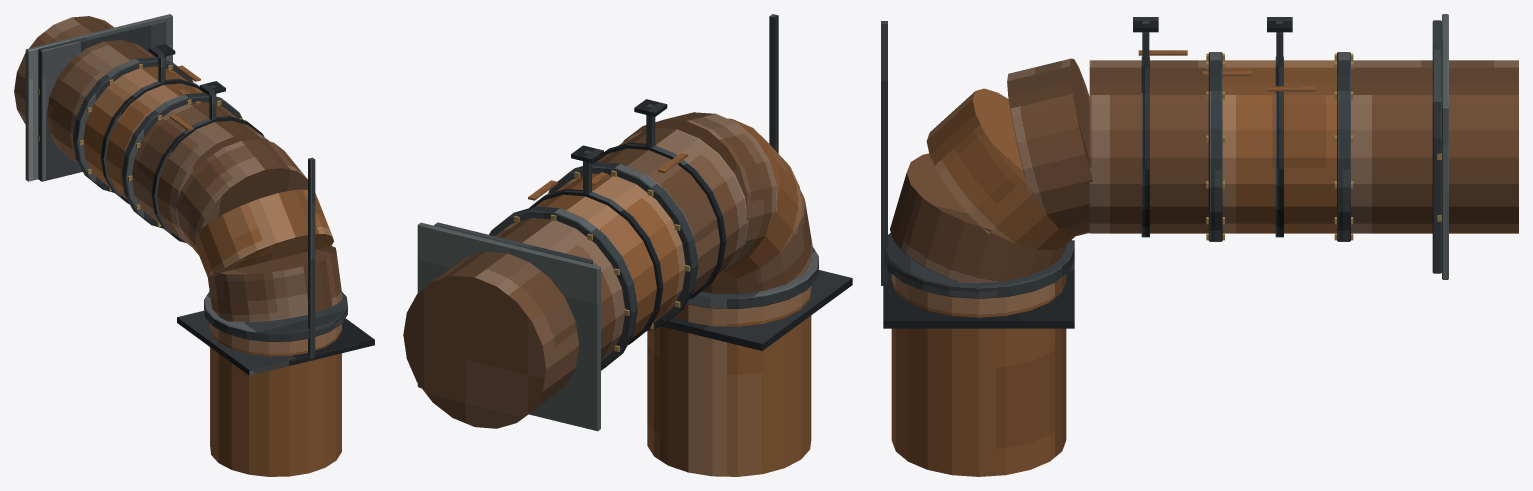
Rendered from sewer_outflow_pipe.glb.
3 renders of one model, left to right at view 1: azimuth 30°, elevation 25°; view 2: azimuth 150°, elevation 25°; view 3: azimuth 270°, elevation 25°, orthographic. The views are drawn at different scales.
Visible parts, largest first — view 1: Drop, Elbow1, Elbow0, Elbow2, Barrel2, Barrel0, Barrel1, WallFlange, DropBand, DropFlange, WallPlate, FlangeB (+4 smaller); view 2: Barrel0, Drop, WallPlate, Barrel2, Barrel1, Elbow0, Elbow1, DropBand, FlangeA, Elbow2, FlangeB, DropFlange (+4 smaller); view 3: Drop, Barrel0, Barrel2, Barrel1, Elbow1, Elbow0, Elbow2, DropBand, DropFlange, FlangeB, FlangeA, WallFlange (+4 smaller).
Boxes of the visible parts, left/top/right/bottom form: Drop: left=210, top=323, right=341, bottom=476; Elbow1: left=196, top=189, right=333, bottom=276; Elbow0: left=175, top=139, right=307, bottom=254; Elbow2: left=207, top=246, right=342, bottom=322; Barrel2: left=132, top=102, right=269, bottom=246; Barrel0: left=14, top=16, right=154, bottom=163; Barrel1: left=83, top=66, right=202, bottom=198; WallFlange: left=38, top=18, right=166, bottom=181; DropBand: left=177, top=310, right=374, bottom=375; DropFlange: left=204, top=291, right=347, bottom=341; WallPlate: left=25, top=14, right=172, bottom=181; FlangeB: left=121, top=92, right=242, bottom=228; Barrel0: left=403, top=218, right=624, bottom=428; Drop: left=647, top=286, right=811, bottom=476; WallPlate: left=417, top=222, right=600, bottom=431; Barrel2: left=596, top=127, right=748, bottom=294; Barrel1: left=536, top=173, right=685, bottom=338; Elbow0: left=623, top=112, right=776, bottom=273; Elbow1: left=712, top=118, right=801, bottom=283; DropBand: left=662, top=270, right=852, bottom=350; FlangeA: left=489, top=206, right=637, bottom=370; Elbow2: left=702, top=189, right=812, bottom=293; FlangeB: left=548, top=162, right=698, bottom=330; DropFlange: left=686, top=247, right=818, bottom=308; Drop: left=891, top=274, right=1066, bottom=476; Barrel0: left=1351, top=60, right=1518, bottom=233; Barrel2: left=1089, top=60, right=1208, bottom=233; Barrel1: left=1222, top=60, right=1336, bottom=233; Elbow1: left=926, top=88, right=1074, bottom=250; Elbow0: left=1007, top=58, right=1092, bottom=236; Elbow2: left=890, top=153, right=1066, bottom=283; DropBand: left=883, top=240, right=1074, bottom=328; DropFlange: left=884, top=233, right=1074, bottom=298; FlangeB: left=1208, top=52, right=1222, bottom=241; FlangeA: left=1337, top=52, right=1350, bottom=241; WallFlange: left=1432, top=20, right=1441, bottom=273.
Size of the model in its own units: 1.9 by 3.95 by 5.47.
3 materials, 3 textured.
